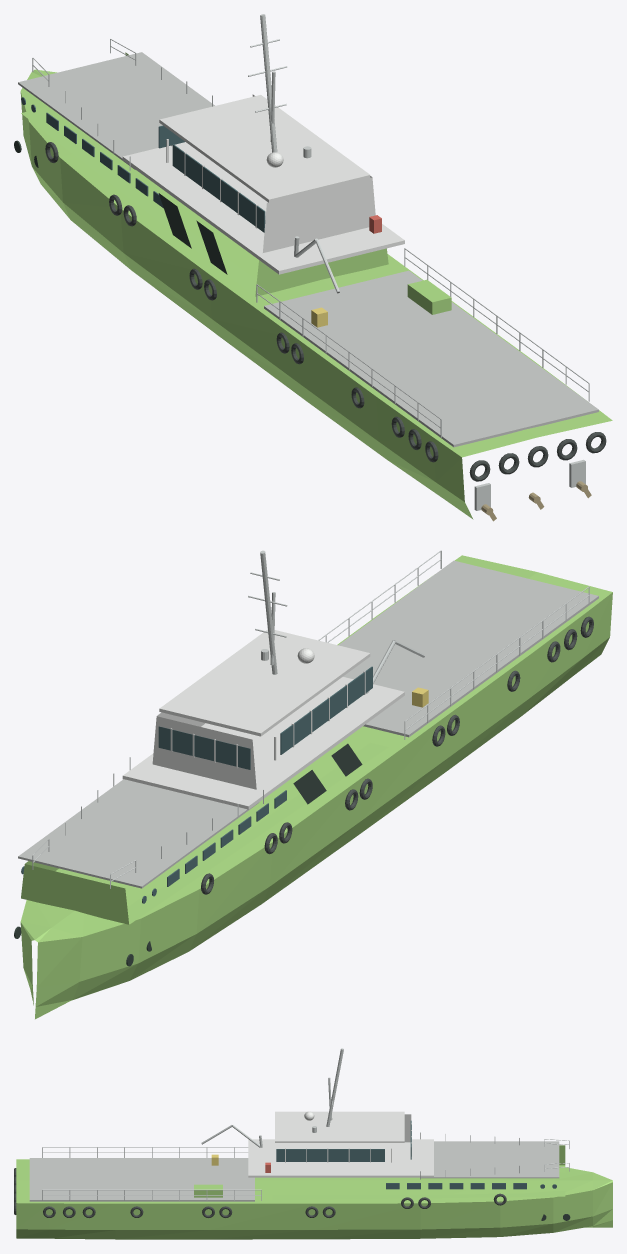
Rendered from ownship.glb.
3 views of the same model, one above another, from view 1: azimuth 30°, elevation 25°; view 2: azimuth 150°, elevation 25°; view 3: azimuth 270°, elevation 25° (orthographic). The views are drawn at different scales.
Visible parts, largest first — view 1: Hull, Aft_Work_Deck, Wheelhouse_Roof, Foredeck, Wheelhouse_Base_Roof, Wheelhouse, Passenger_Deckhouse, Bridge_Glass_Side_1, Aft_Locker, Main_Mast; view 2: Hull, Aft_Work_Deck, Foredeck, Wheelhouse_Roof, Wheelhouse_Base_Roof, Passenger_Deckhouse, Wheelhouse, Bridge_Glass_Side_1, Bridge_Front_Glass, Main_Mast, LiveryB_1; view 3: Hull, Aft_Work_Deck, Wheelhouse_Base_Roof, Foredeck, Wheelhouse_Roof, Passenger_Deckhouse, Bridge_Glass_Side_-1, Rail_-1_3.35, Aft_Locker, Main_Mast.
Part boxes in pixels (left/top/right/bottom): Hull: left=20, top=69, right=612, bottom=519; Aft_Work_Deck: left=264, top=270, right=598, bottom=447; Wheelhouse_Roof: left=159, top=95, right=370, bottom=202; Foredeck: left=18, top=52, right=214, bottom=169; Wheelhouse_Base_Roof: left=122, top=142, right=404, bottom=274; Wheelhouse: left=252, top=94, right=375, bottom=252; Passenger_Deckhouse: left=21, top=52, right=388, bottom=296; Bridge_Glass_Side_1: left=172, top=144, right=265, bottom=232; Aft_Locker: left=407, top=279, right=451, bottom=314; Main_Mast: left=260, top=14, right=277, bottom=152; Hull: left=20, top=555, right=612, bottom=1019; Aft_Work_Deck: left=338, top=560, right=598, bottom=737; Foredeck: left=18, top=779, right=259, bottom=888; Wheelhouse_Roof: left=159, top=629, right=370, bottom=736; Wheelhouse_Base_Roof: left=122, top=677, right=404, bottom=809; Passenger_Deckhouse: left=21, top=743, right=388, bottom=924; Wheelhouse: left=152, top=712, right=256, bottom=789; Bridge_Glass_Side_1: left=280, top=666, right=372, bottom=754; Bridge_Front_Glass: left=158, top=726, right=250, bottom=769; Main_Mast: left=260, top=550, right=277, bottom=674; LiveryB_1: left=293, top=770, right=326, bottom=804; Hull: left=16, top=1159, right=612, bottom=1239; Aft_Work_Deck: left=29, top=1158, right=254, bottom=1201; Wheelhouse_Base_Roof: left=248, top=1139, right=433, bottom=1177; Foredeck: left=421, top=1141, right=559, bottom=1178; Wheelhouse_Roof: left=275, top=1111, right=404, bottom=1142; Passenger_Deckhouse: left=272, top=1145, right=565, bottom=1200; Bridge_Glass_Side_-1: left=276, top=1149, right=384, bottom=1161; Rail_-1_3.35: left=43, top=1189, right=261, bottom=1190; Aft_Locker: left=194, top=1184, right=222, bottom=1197; Main_Mast: left=326, top=1048, right=343, bottom=1126.
Size of the model in its own units: 8.26 by 14.87 by 45.17.
